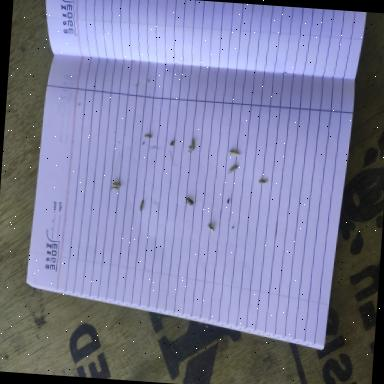pbw: (226, 164, 238, 176), (184, 198, 194, 208), (112, 180, 121, 188), (228, 150, 240, 156), (139, 200, 144, 212), (258, 178, 268, 184), (191, 138, 195, 151), (207, 224, 214, 231), (144, 134, 152, 138), (110, 186, 117, 190)
